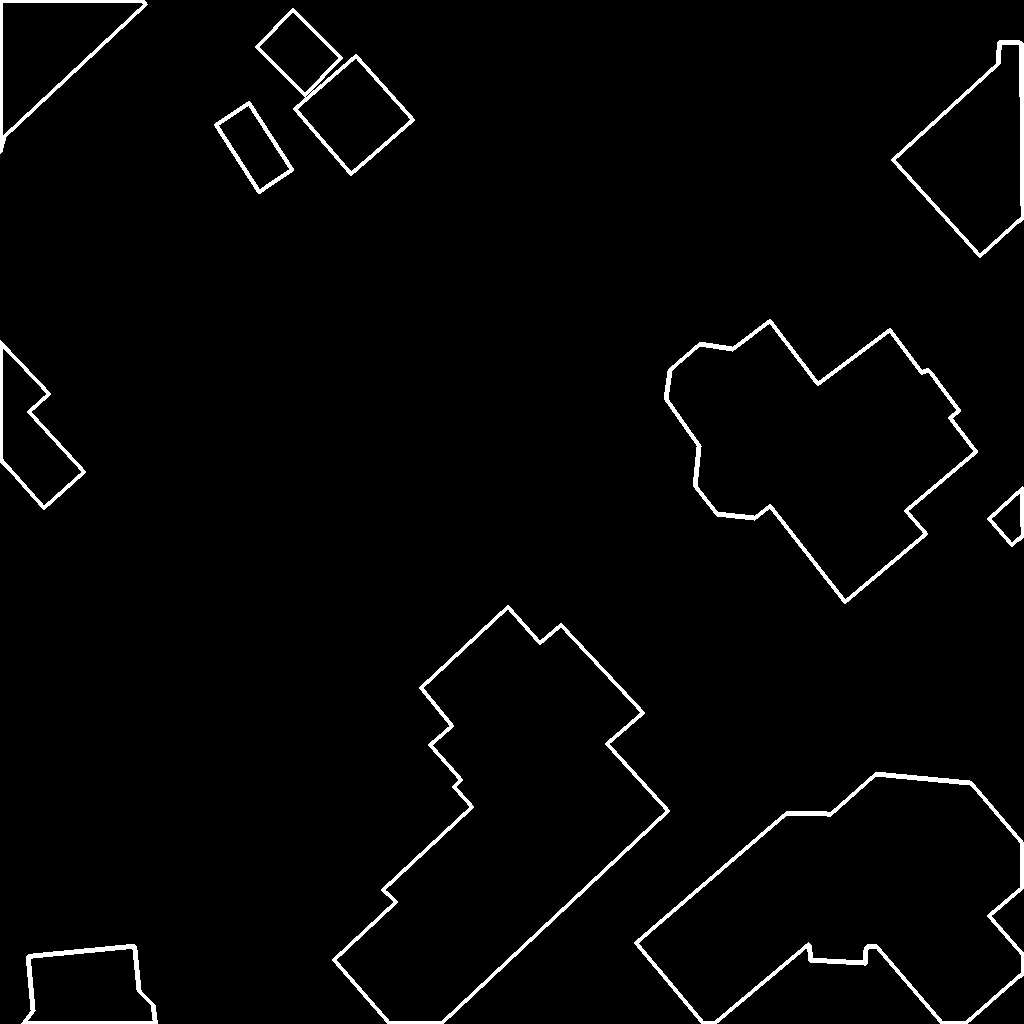building: (334, 607, 669, 1024), (636, 774, 1024, 1024), (666, 321, 977, 603), (893, 42, 1024, 257), (0, 0, 147, 154), (0, 342, 85, 509), (295, 56, 414, 175), (23, 946, 157, 1024), (257, 10, 342, 96), (216, 103, 293, 193), (989, 488, 1024, 546)
